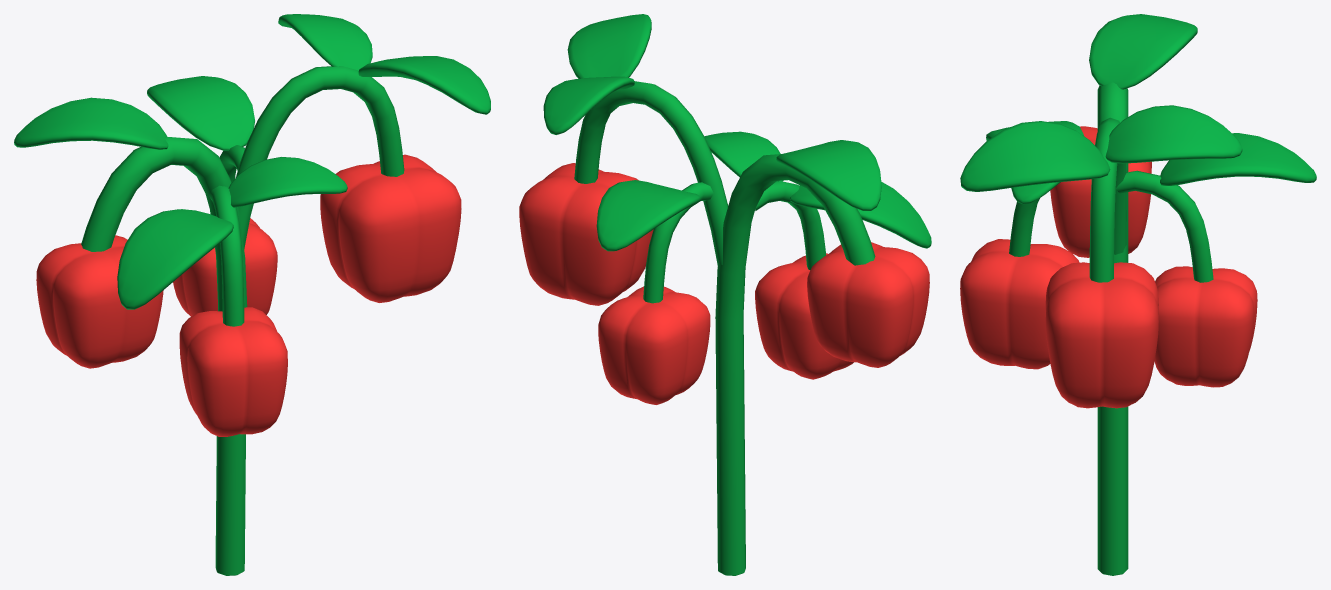
The model's file is Farm_19_Pepper_Bush_1.glb.
The picture shows the model from 3 angles, left to right: view 1: azimuth 30°, elevation 25°; view 2: azimuth 150°, elevation 25°; view 3: azimuth 270°, elevation 25°; orthographic projection. The views are drawn at different scales.
Visible parts, largest first — view 1: Farm_19_Pepper_Bush_1; view 2: Farm_19_Pepper_Bush_1; view 3: Farm_19_Pepper_Bush_1.
Boxes of the visible parts, x1,y1,x2,y2 form: Farm_19_Pepper_Bush_1: [14, 14, 490, 575]; Farm_19_Pepper_Bush_1: [519, 14, 931, 575]; Farm_19_Pepper_Bush_1: [960, 14, 1316, 575].
Size of the model in its own units: 1.01 by 1.23 by 0.7776.
1 material, 1 textured.
